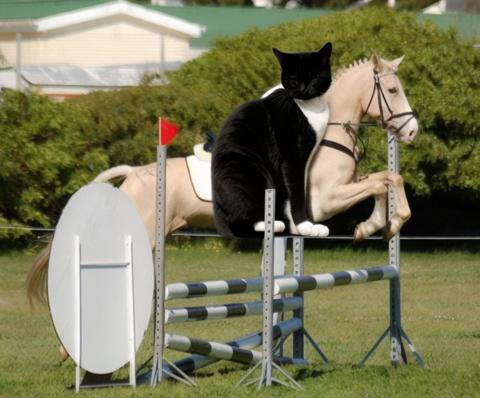cat: (211, 40, 331, 237)
horse: (28, 54, 429, 329)
